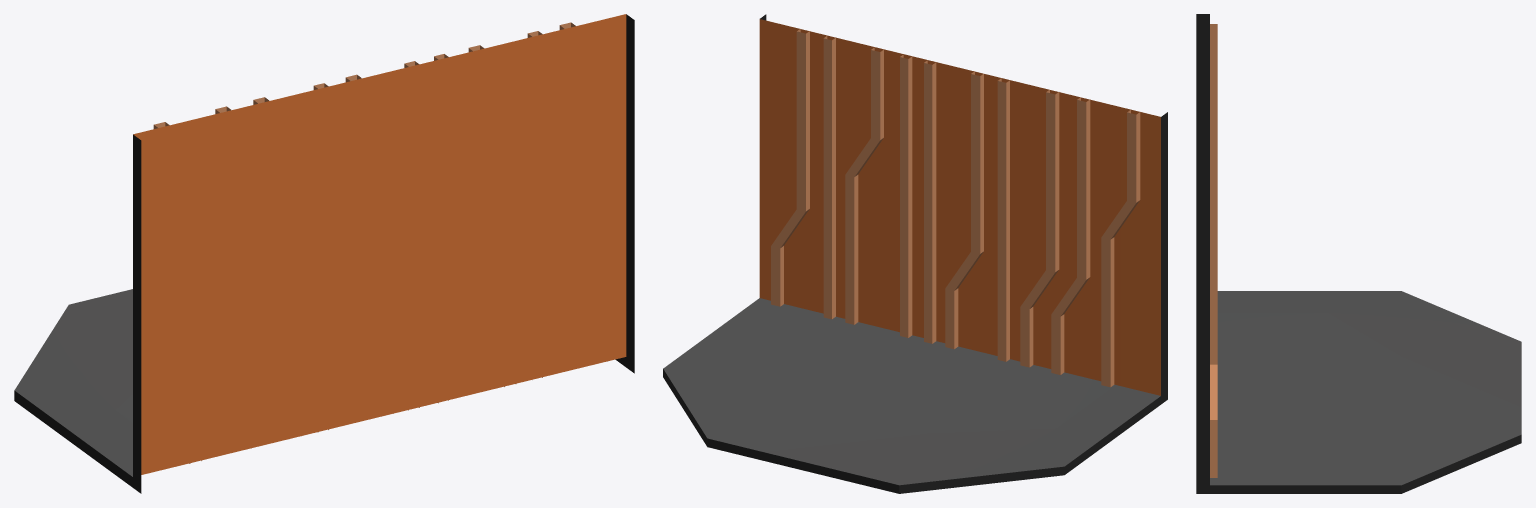
File: backdropsankhau.fbx
3 views of the same model, side by side, from view 1: azimuth 30°, elevation 25°; view 2: azimuth 150°, elevation 25°; view 3: azimuth 270°, elevation 25° (orthographic). The views are drawn at different scales.
Visible parts, largest first — view 1: backdropsankhau; view 2: backdropsankhau; view 3: backdropsankhau.
Boxes of the visible parts, x1,y1,x2,y2 form: backdropsankhau: [14, 14, 634, 493]; backdropsankhau: [663, 14, 1167, 493]; backdropsankhau: [1196, 14, 1521, 493].
Size of the model in its own units: 776 by 532 by 548.
